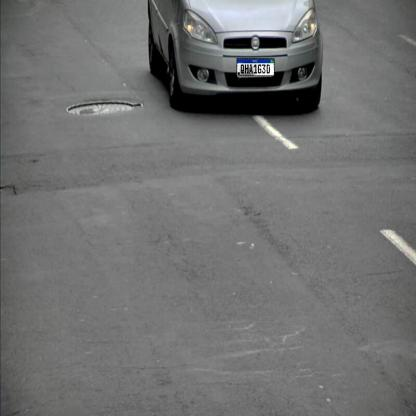PlacaM: (236, 58, 274, 76)
